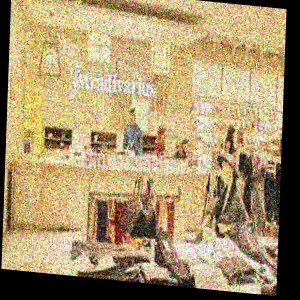stradivarius: (130, 32, 193, 113)
